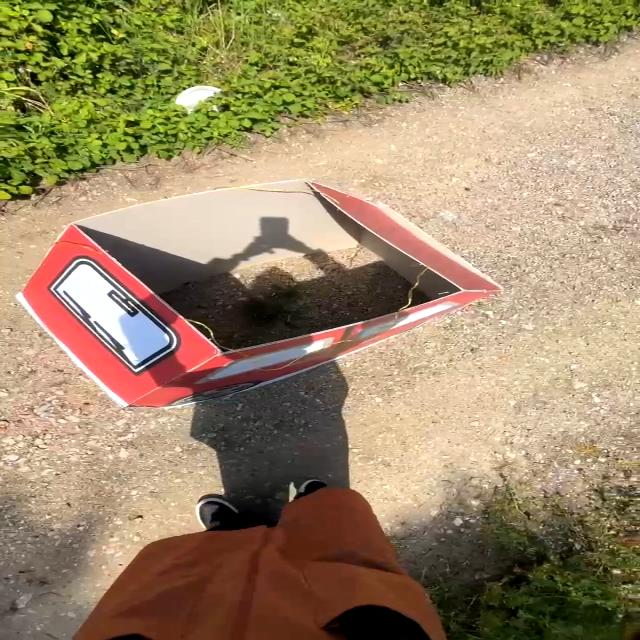red_car: (4, 150, 539, 431)
